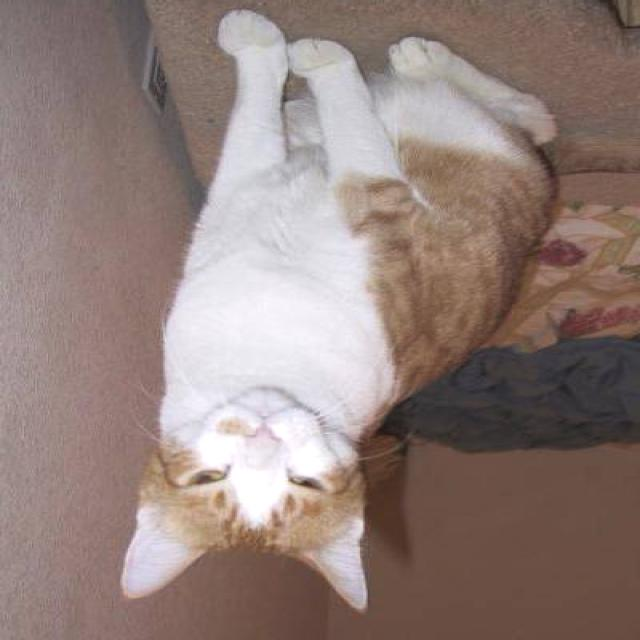Kucing: (111, 38, 570, 628)
